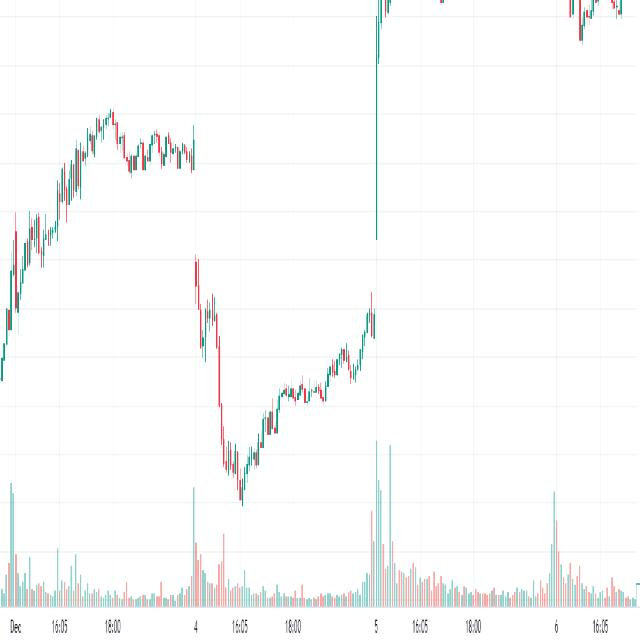Inverse-Head-Shoulders: (188, 192, 380, 518)
